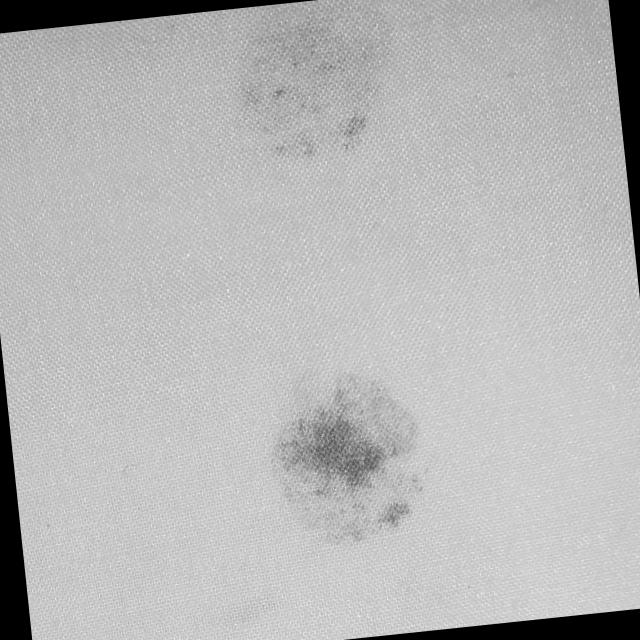Stain: (263, 360, 433, 548), (222, 0, 394, 165)
